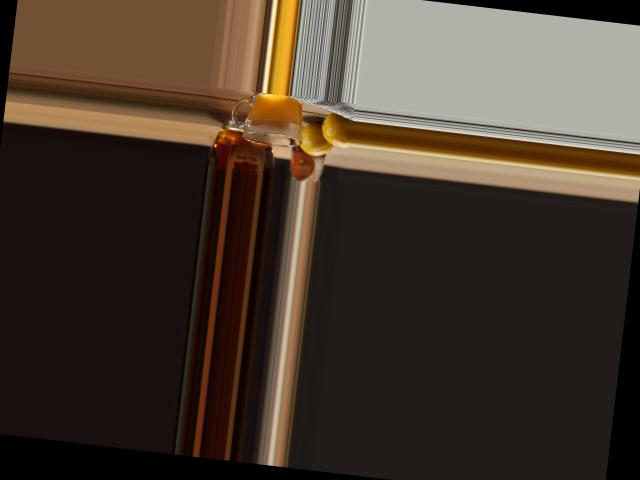lemon: (323, 113, 352, 144)
